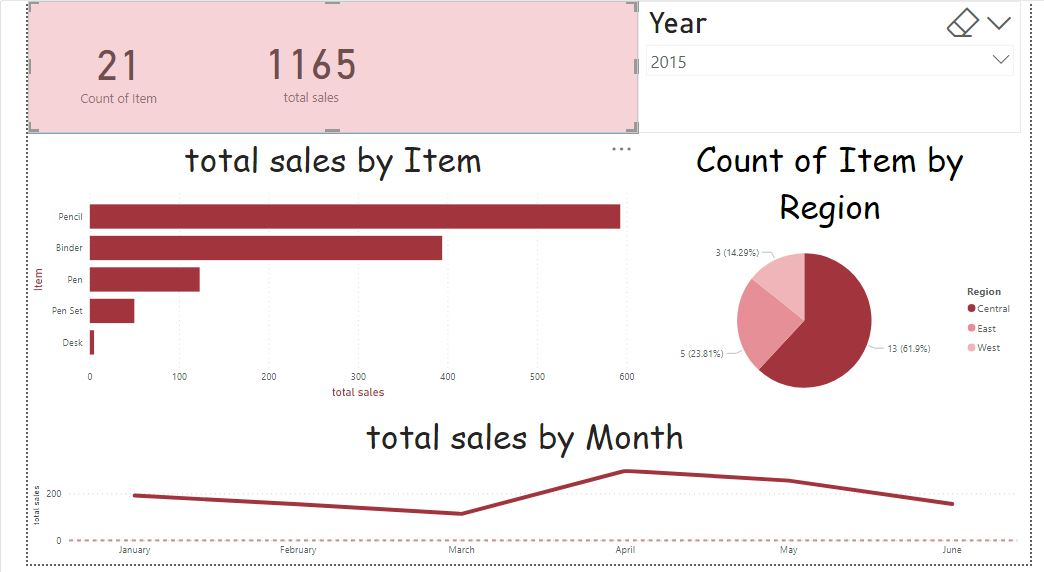

This screenshot's page, from the dashboard's own definition file:
{"tool":"powerbi","page":{"name":"Page 1","canvas":[1280,720],"ordinal":0},"visuals":[{"type":"pieChart","fields":{"Category":["P6-OfficeSupplies.Region"],"Y":["CountNonNull(OfficeSupplies.Item)"]},"box":[779.1,170.8,490.1,354.4],"z":0},{"type":"card","fields":{"Values":["CountNonNull(P6-OfficeSupplies.Item)"]},"box":[0,0,231.5,170.8],"z":1000},{"type":"shape","box":[0,213.9,779.1,170.8],"z":2000},{"type":"card","fields":{"Values":["OfficeSupplies.total sales"]},"box":[231.5,0,260.2,169.2],"z":3000},{"type":"clusteredBarChart","fields":{"Y":["OfficeSupplies.total sales"],"Category":["OfficeSupplies.Item"]},"box":[0,170.8,779.1,341.6],"z":4000},{"type":"lineChart","fields":{"Y":["OfficeSupplies.total sales"],"Category":["OfficeSupplies.OrderDate.Variation.Date Hierarchy.Month"]},"box":[0,525.2,1269.2,194.8],"z":5000},{"type":"slicer","fields":{"Values":["Calender Table.Year"]},"box":[779.1,0,490.1,169.2],"z":6001},{"type":"shape","box":[0,0,779.1,169.2],"z":6002}]}

Visuals, with their boxes in screenshot pixels (x1, y1, x2, y2), scaled from the page's 1280x720 canvas onto the 1044x572 screenshot:
pieChart - P6-OfficeSupplies.Region x CountNonNull(OfficeSupplies.Item): <bbox>635, 136, 1035, 417</bbox>
card - CountNonNull(P6-OfficeSupplies.Item): <bbox>0, 0, 189, 136</bbox>
shape: <bbox>0, 170, 635, 306</bbox>
card - OfficeSupplies.total sales: <bbox>189, 0, 401, 134</bbox>
clusteredBarChart - OfficeSupplies.total sales x OfficeSupplies.Item: <bbox>0, 136, 635, 407</bbox>
lineChart - OfficeSupplies.total sales x OfficeSupplies.OrderDate.Variation.Date Hierarchy.Month: <bbox>0, 417, 1035, 571</bbox>
slicer - Calender Table.Year: <bbox>635, 0, 1035, 134</bbox>
shape: <bbox>0, 0, 635, 134</bbox>
